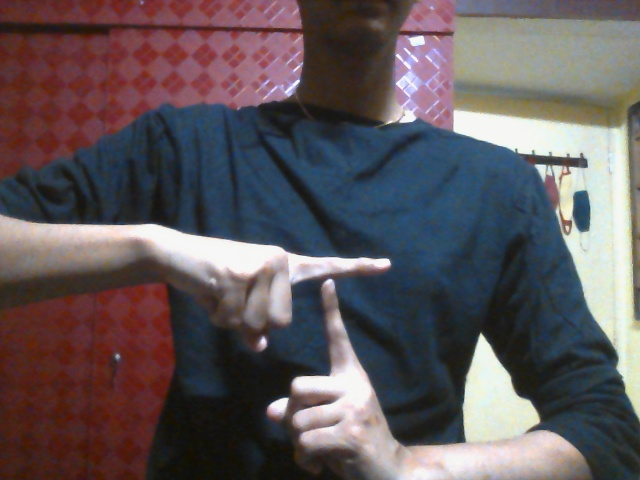T: (183, 228, 390, 474)
